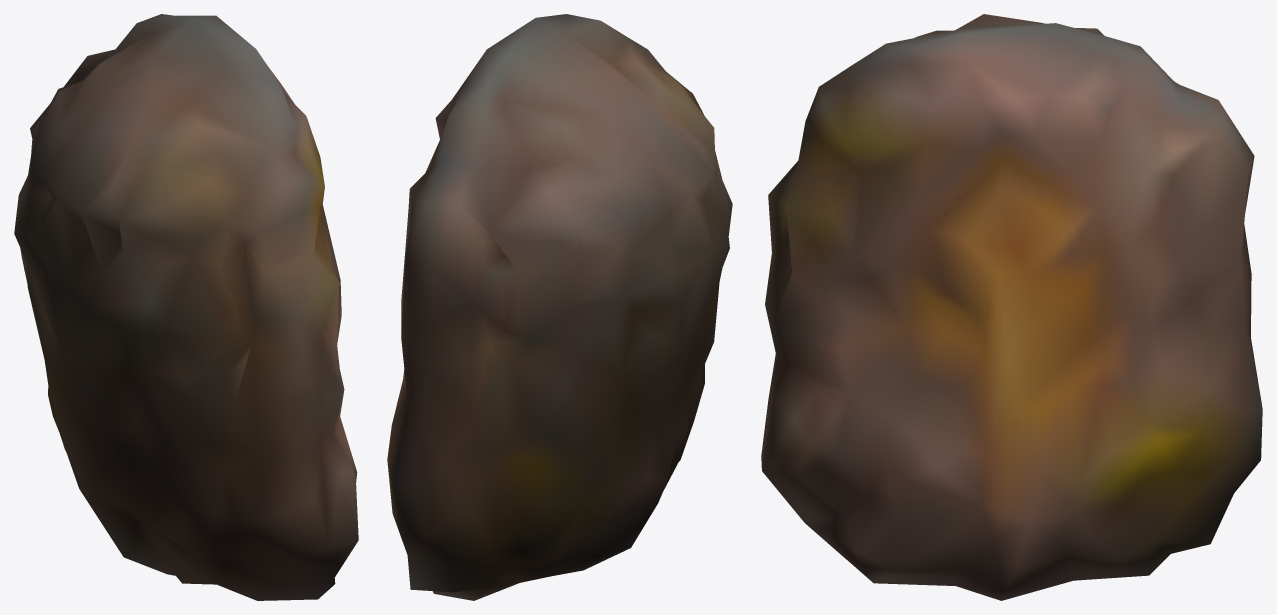
Rendered from rune_ochre.glb.
3 renders of one model, left to right at view 1: azimuth 30°, elevation 25°; view 2: azimuth 150°, elevation 25°; view 3: azimuth 270°, elevation 25°, orthographic. The views are drawn at different scales.
Parts seen in each view (by area): view 1: model; view 2: model; view 3: model.
Boxes of the visible parts, left/top/right/bottom form: model: left=14, top=14, right=358, bottom=600; model: left=387, top=14, right=732, bottom=600; model: left=761, top=14, right=1262, bottom=600.
Bounding box in the file's own units: 0.2013 × 0.3947 × 0.3266.
1 material, 1 textured.
